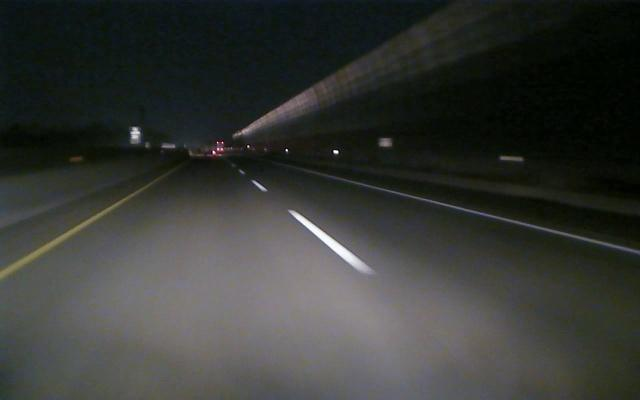lane: (320, 173, 639, 256), (253, 180, 375, 275), (1, 202, 118, 279)
